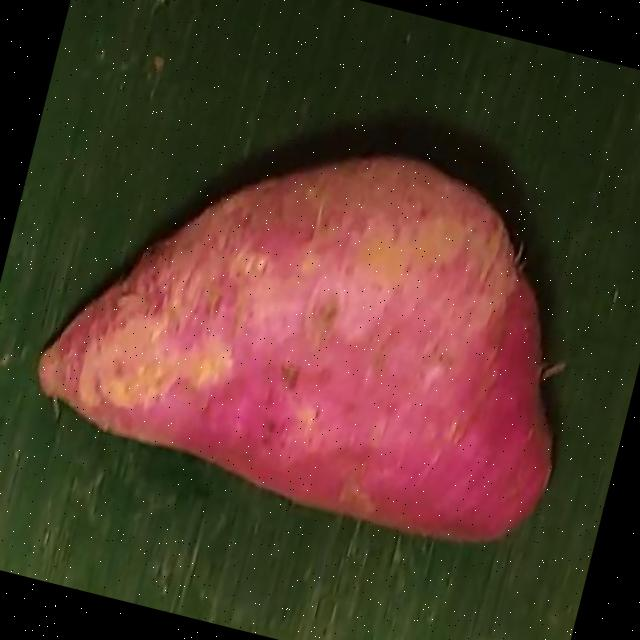Sweet Potato: (37, 155, 556, 546)
